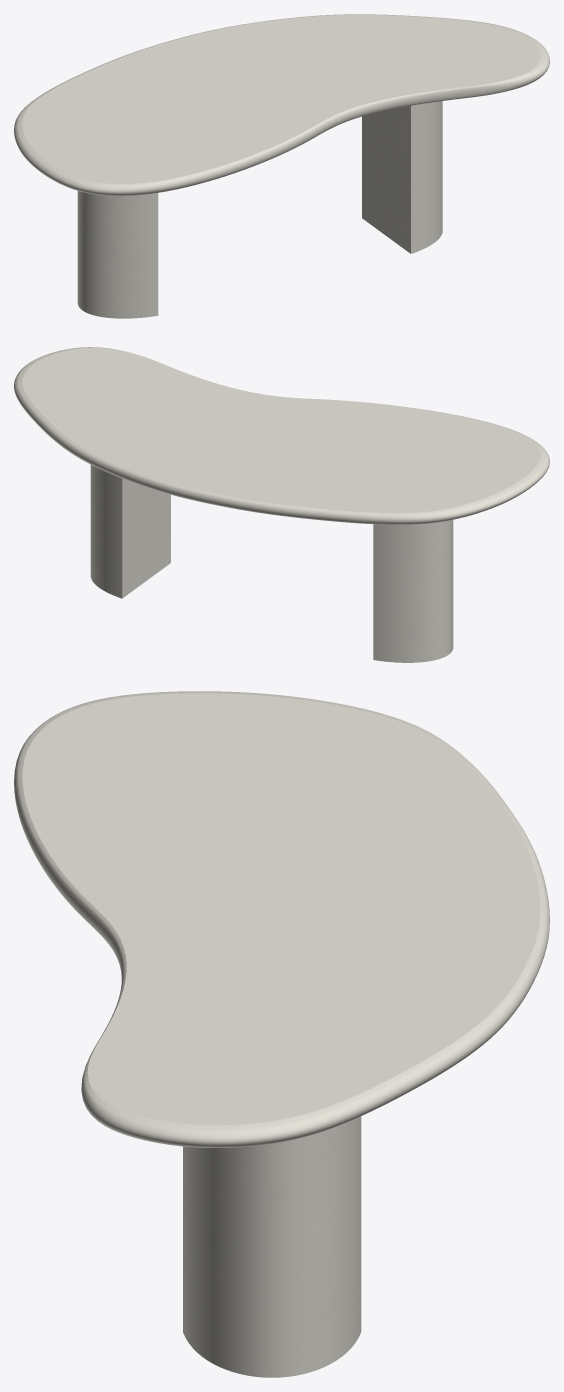
Rendered from pale_leaf1_round_hillside.glb.
The picture shows the model from 3 angles, top to bottom: view 1: azimuth 30°, elevation 25°; view 2: azimuth 150°, elevation 25°; view 3: azimuth 270°, elevation 25°; orthographic projection. The views are drawn at different scales.
Parts seen in each view (by area): view 1: round_leaf1, hillside; view 2: round_leaf1, hillside; view 3: round_leaf1, hillside.
Part boxes in pixels (x1,y1,x2,y2): round_leaf1: [14, 14, 549, 195]; hillside: [77, 101, 442, 318]; round_leaf1: [14, 347, 549, 524]; hillside: [90, 465, 453, 662]; round_leaf1: [14, 691, 549, 1147]; hillside: [183, 1116, 361, 1377].
Bounding box in the file's own units: 7.5 × 2.51 × 3.8.
Materials: 1 (1 with a texture image).
